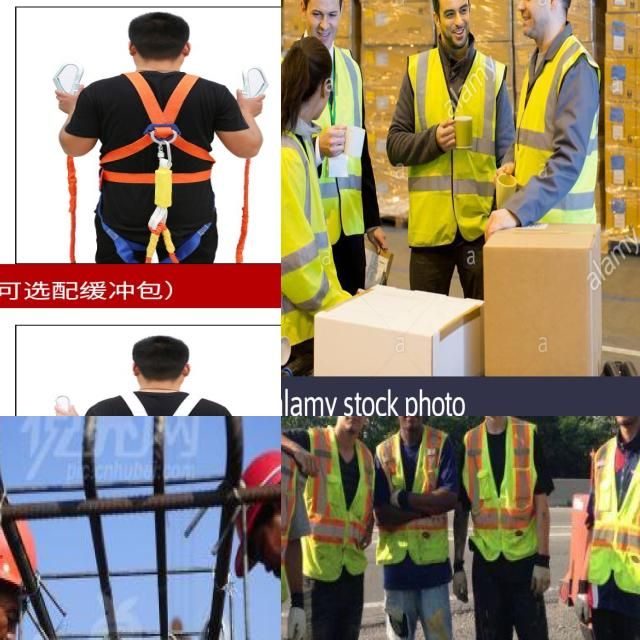Harness: (110, 70, 218, 229), (108, 389, 216, 416)
No_Ear-Protection: (431, 10, 441, 29), (298, 0, 306, 22), (549, 0, 559, 11)
No_Glasses: (0, 598, 31, 629), (309, 7, 341, 23), (441, 4, 471, 21), (514, 0, 540, 5)
face_nomask: (438, 1, 476, 57), (304, 0, 346, 44), (515, 0, 553, 42), (337, 416, 366, 439), (611, 416, 640, 430), (394, 416, 423, 429)
hand_glove: (572, 578, 596, 632), (281, 602, 313, 640), (533, 552, 553, 602), (449, 563, 471, 604)
hand_noglove: (432, 112, 462, 158), (365, 222, 394, 266), (322, 118, 348, 165), (485, 207, 515, 241)
head_helmet: (221, 443, 281, 566), (0, 487, 39, 597)
head_nohelmet: (293, 34, 336, 71)
person: (401, 0, 500, 289), (281, 0, 385, 267), (501, 0, 604, 222), (461, 416, 560, 640), (382, 416, 464, 640), (281, 37, 334, 347), (571, 416, 640, 640), (310, 416, 377, 640)
vest: (281, 38, 383, 228), (410, 46, 500, 245), (516, 48, 594, 223), (381, 427, 454, 568), (468, 418, 540, 559), (305, 435, 377, 576), (281, 141, 333, 334), (592, 429, 640, 597)
